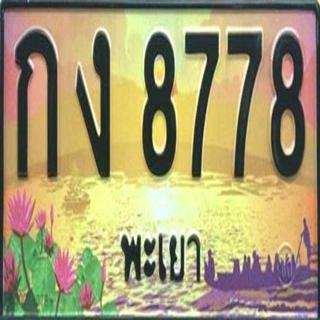A01: (10, 24, 63, 184)
A07: (68, 24, 127, 183)
N07: (224, 20, 268, 178), (182, 21, 222, 183)
N08: (267, 23, 311, 179), (137, 24, 180, 181)
P42: (115, 225, 208, 288)
